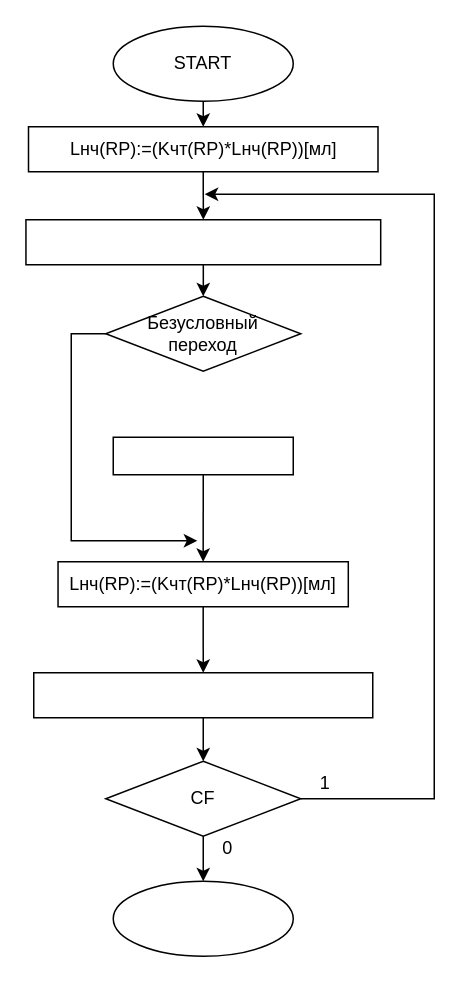
Image size: 474x983. Some labels were removed from this diagram. Each missing label, with the centre of its shape:
"END" belongs at point 202,918.
"Mнч(OP):=2^-1*Mчт[OP[i(RP)*2]](OP) i(RP):=i(RP)-1" belongs at point 202,694.
"Mчт(OP):=2^-1*Mнч[OP[i(RP)*2]](OP) i(RP):=i(RP)-1" belongs at point 202,241.
